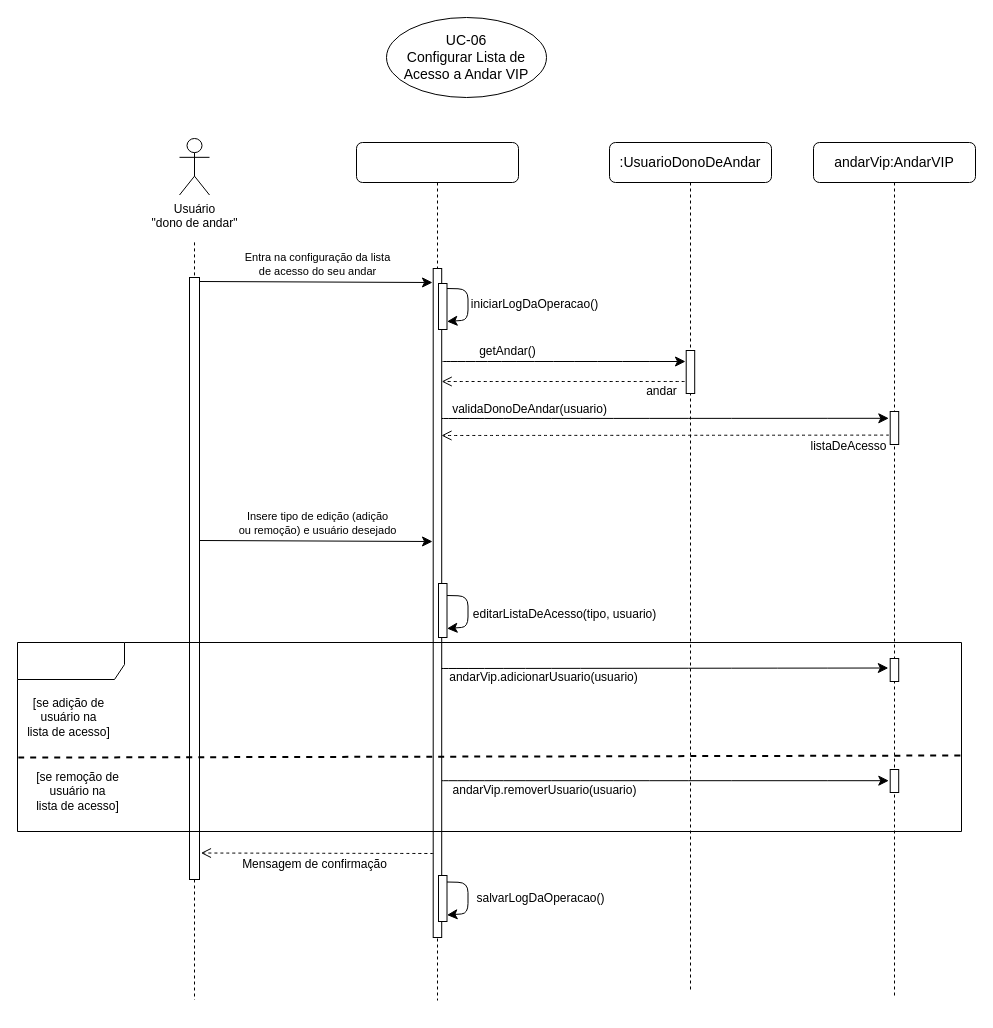
This 993x1028 diagram has some shape labels left out. The shapes that lost their labels are listed below. From the top down, each one's box as (x1, y1, x2, y2) in pixels, then its label:
(356, 142, 518, 1000): :SistemaControle
(16, 642, 962, 832): tipo de edição
